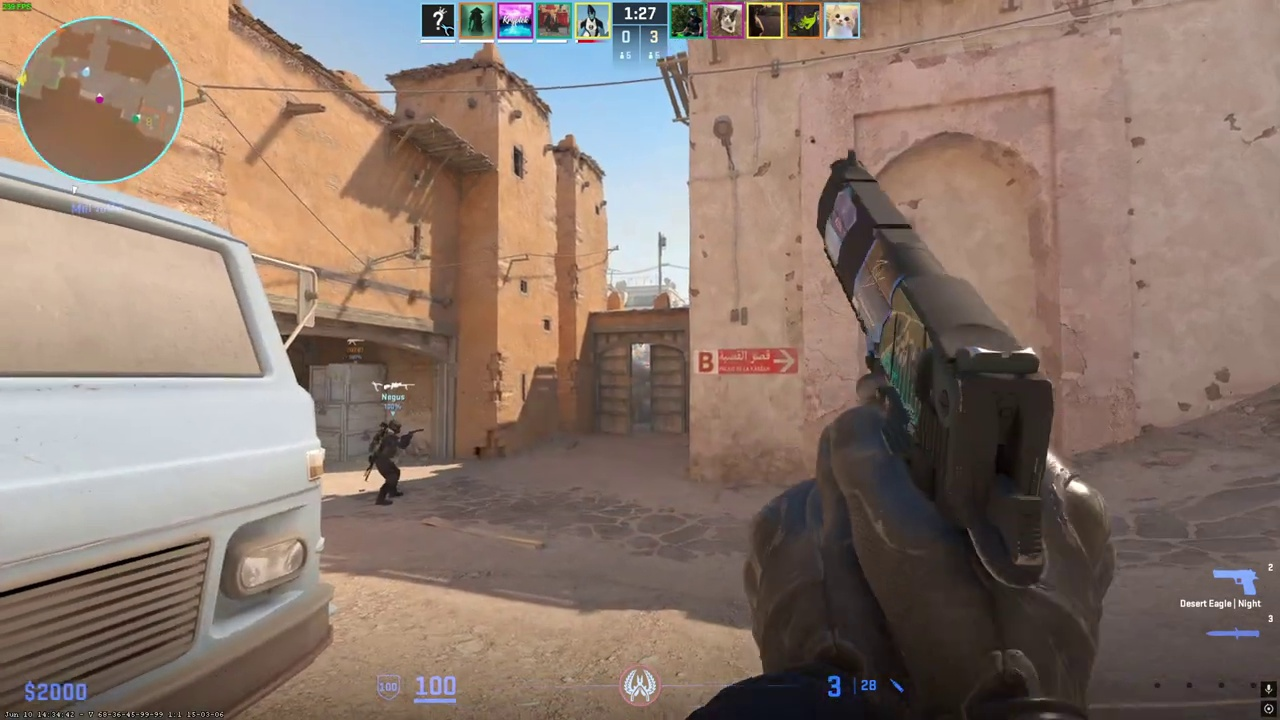CT: (367, 418, 408, 505)
